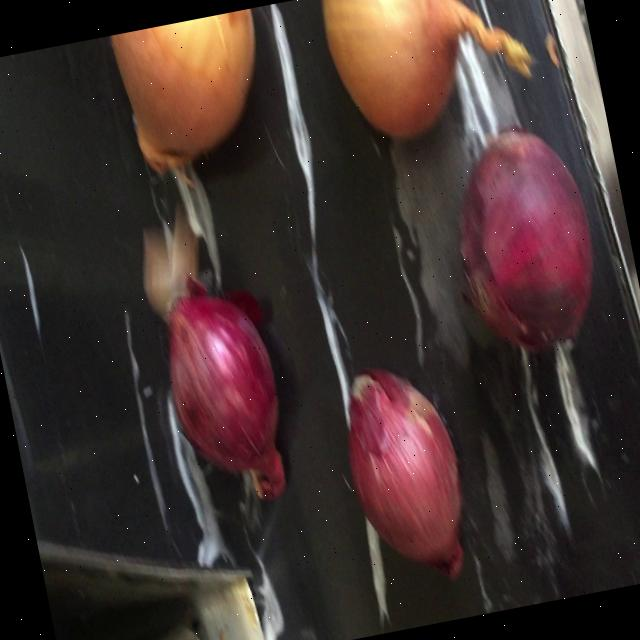Onion: (461, 128, 594, 350), (323, 0, 533, 135), (349, 369, 464, 580), (169, 292, 286, 499), (111, 8, 255, 171)
